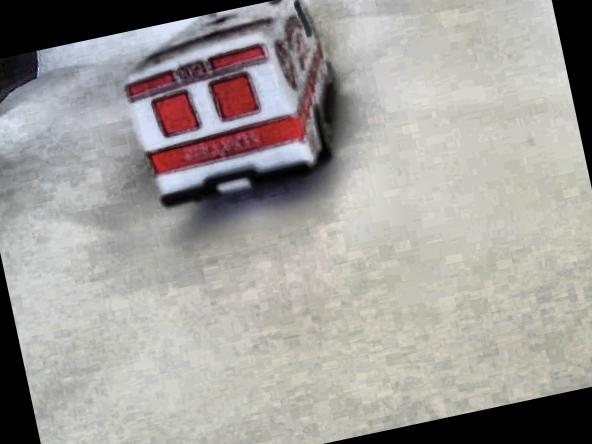ambulance: (112, 0, 354, 211)
